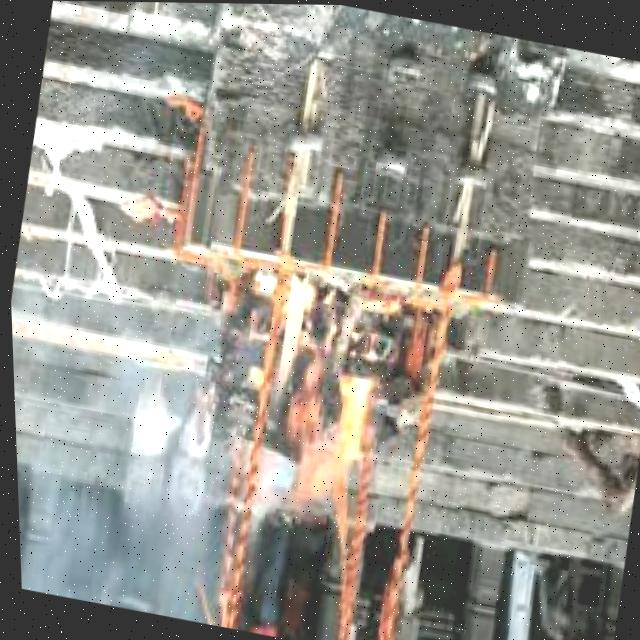Fire: (235, 265, 398, 529)
